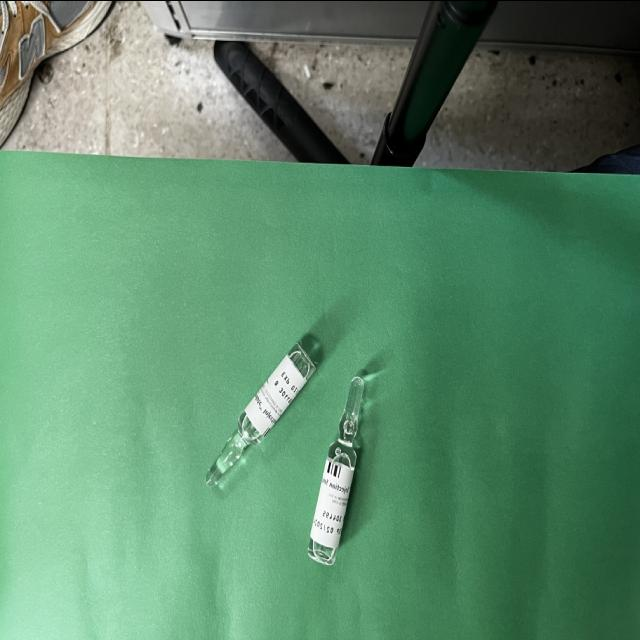Ampoules: (206, 343, 316, 487), (308, 376, 364, 565)
